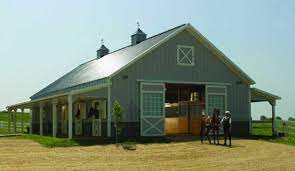Tin-shade House: (13, 19, 275, 141)
